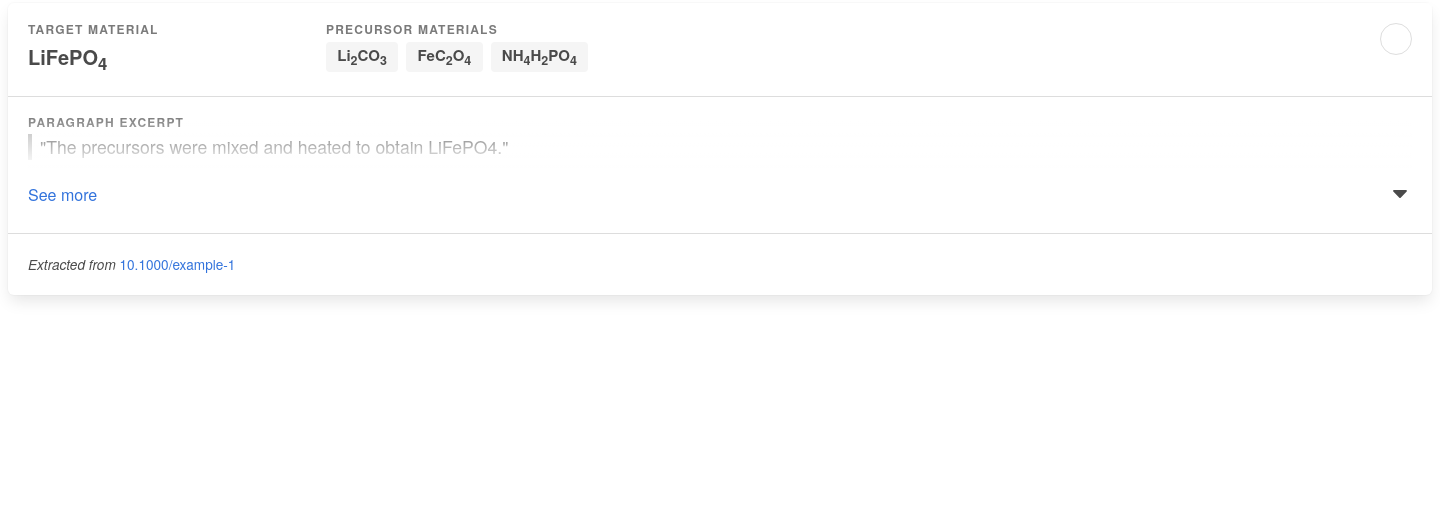
it: SynthesisRecipeCard › renders recipe-specific content and expandable details
Check: the link named "Li Fe P O 4" is shown, box [28,42,107,70]
Check: the text "Precursor Materials" is shown, box [326,23,498,38]
Click the link "See more": (63, 194) [28,182,97,206]
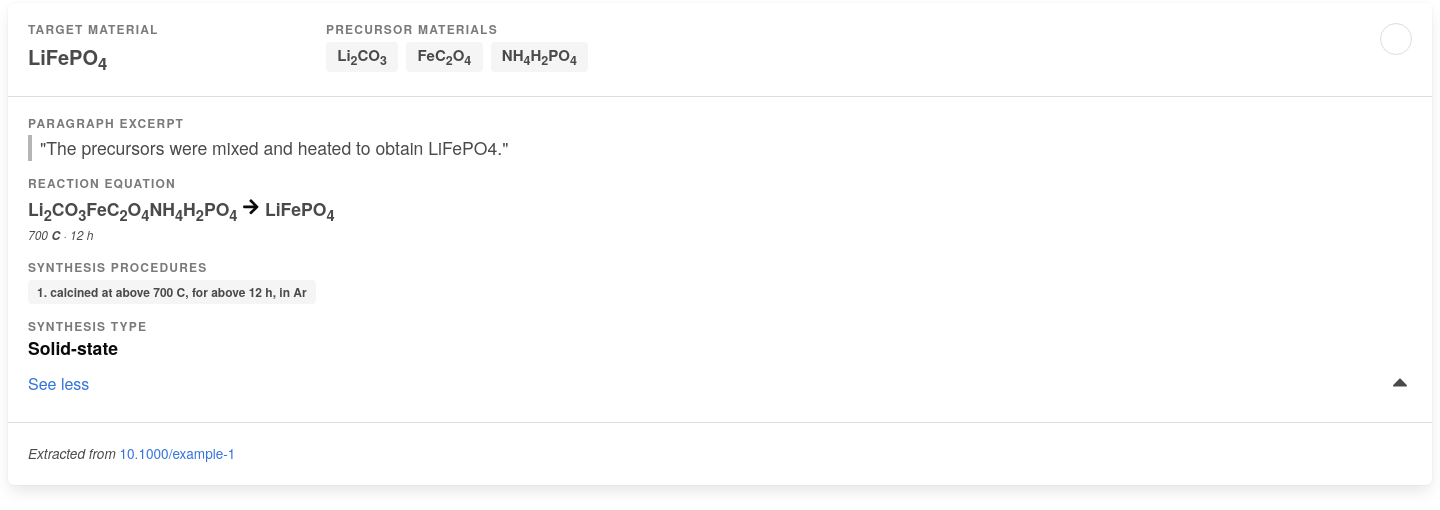
Check: the text "Paragraph Excerpt" is shown, box [28,116,184,132]
Check: the text "Synthesis Type" is shown, box [28,317,147,335]
Check: the text "Solid-state" is shown, box [28,335,118,358]
